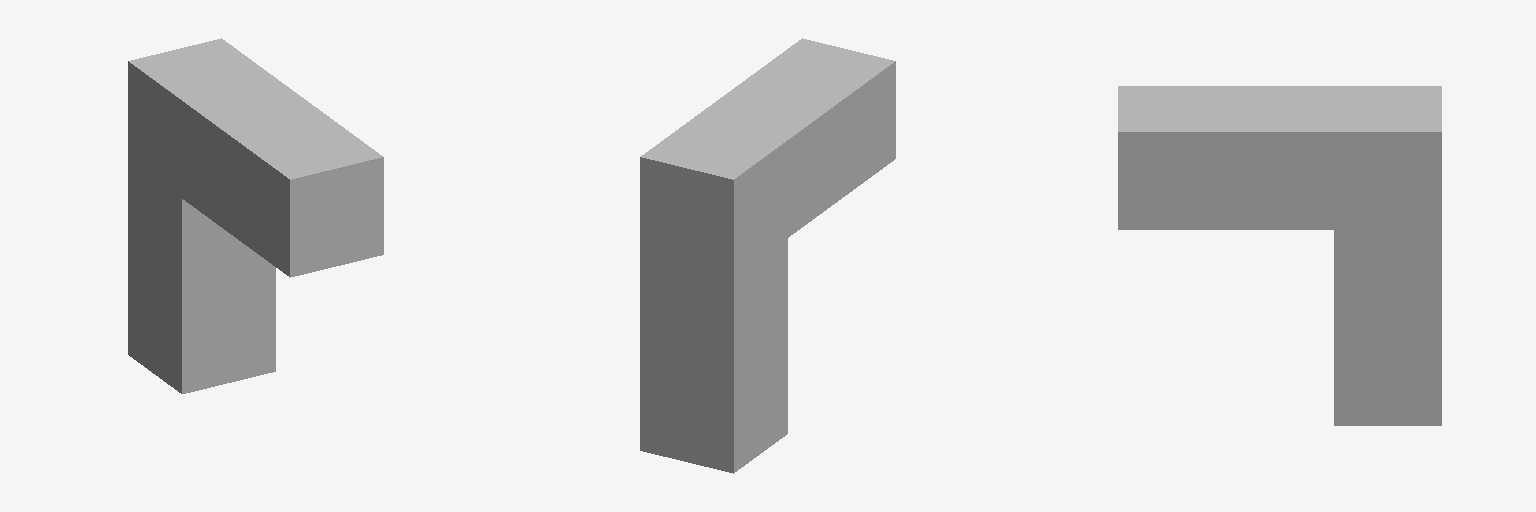
Rendered from testbox2.obj.
The picture shows the model from 3 angles: view 1: azimuth 30°, elevation 25°; view 2: azimuth 150°, elevation 25°; view 3: azimuth 270°, elevation 25°; orthographic projection.
Parts seen in each view (by area): view 1: Seg1, Seg2; view 2: Seg2, Seg1; view 3: Seg1, Seg2.
Boxes of the visible parts, <box> form: Seg1: <box>128,38,383,277</box>; Seg2: <box>128,62,275,393</box>; Seg2: <box>640,157,787,473</box>; Seg1: <box>641,38,895,237</box>; Seg1: <box>1118,86,1441,229</box>; Seg2: <box>1334,132,1441,425</box>.
Size of the model in its own units: 2 by 6 by 6.